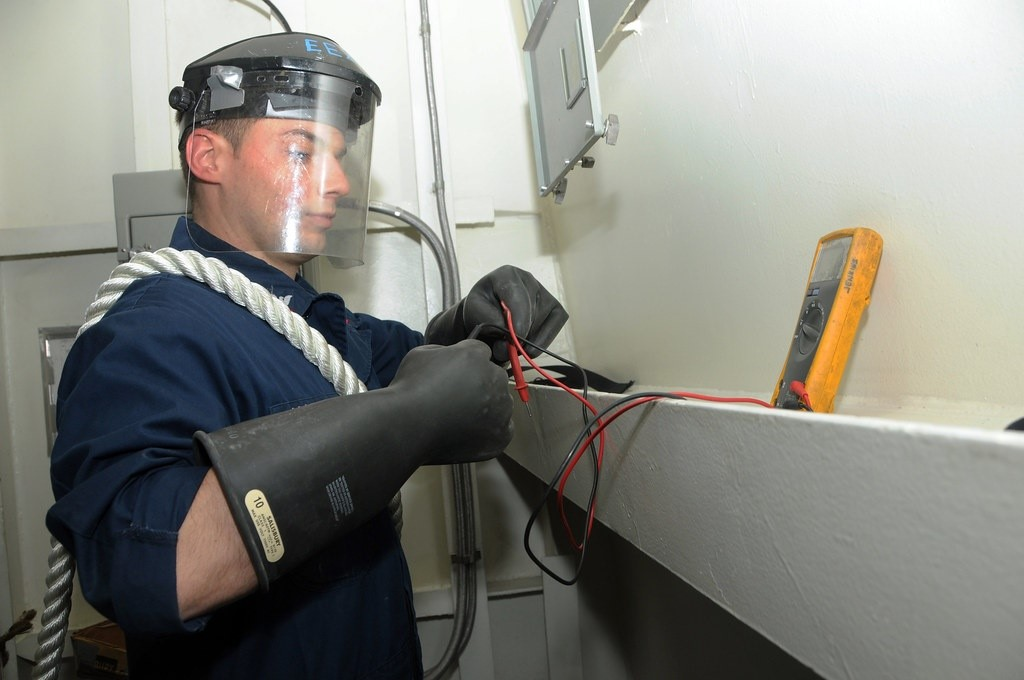face_no_mask: (189, 81, 352, 267)
